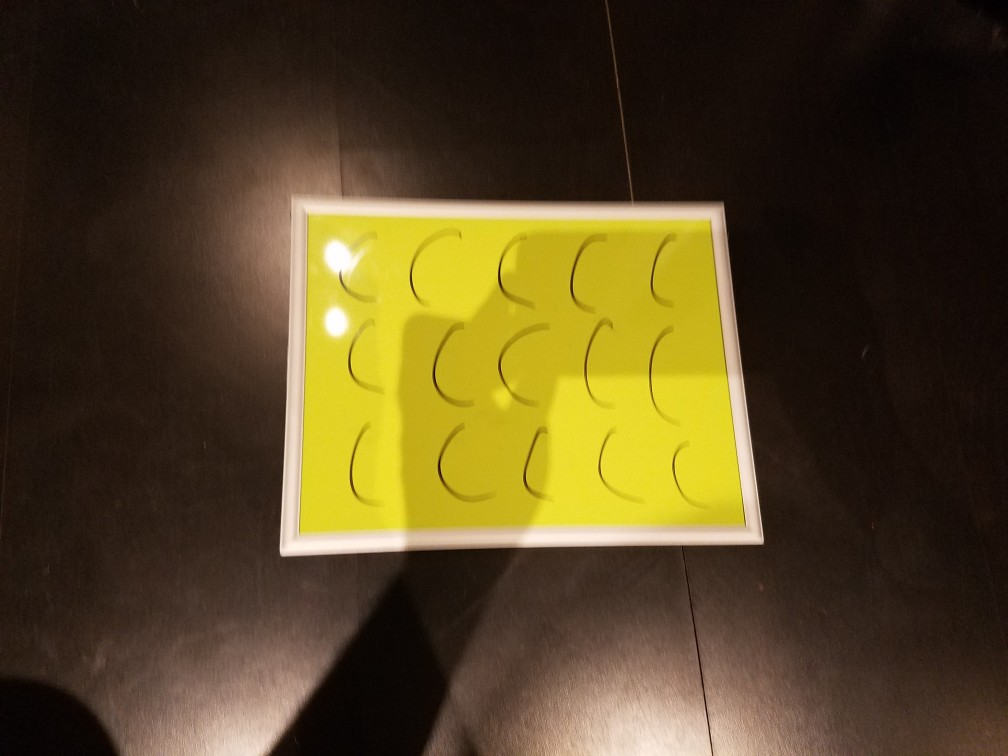(: (392, 224, 471, 307), (434, 415, 494, 516), (497, 318, 554, 412), (422, 316, 474, 415), (575, 317, 626, 416), (645, 323, 693, 428), (566, 230, 620, 316), (487, 224, 542, 307), (326, 228, 382, 303), (340, 315, 386, 405), (663, 433, 712, 516), (595, 422, 640, 511), (648, 232, 693, 317), (518, 421, 559, 513), (346, 422, 387, 513)
